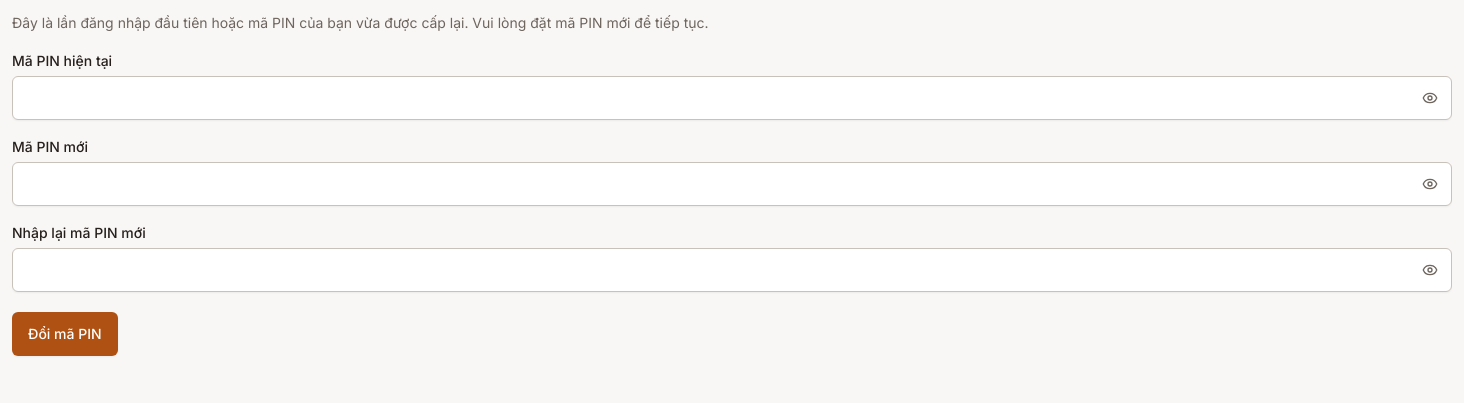
ChangePinForm › requires the new PIN to differ from the current one
Type "123456" into the password field labelled "Mã PIN hiện tại".
click(732, 98); type("123456")  # box [12,76,1452,120]
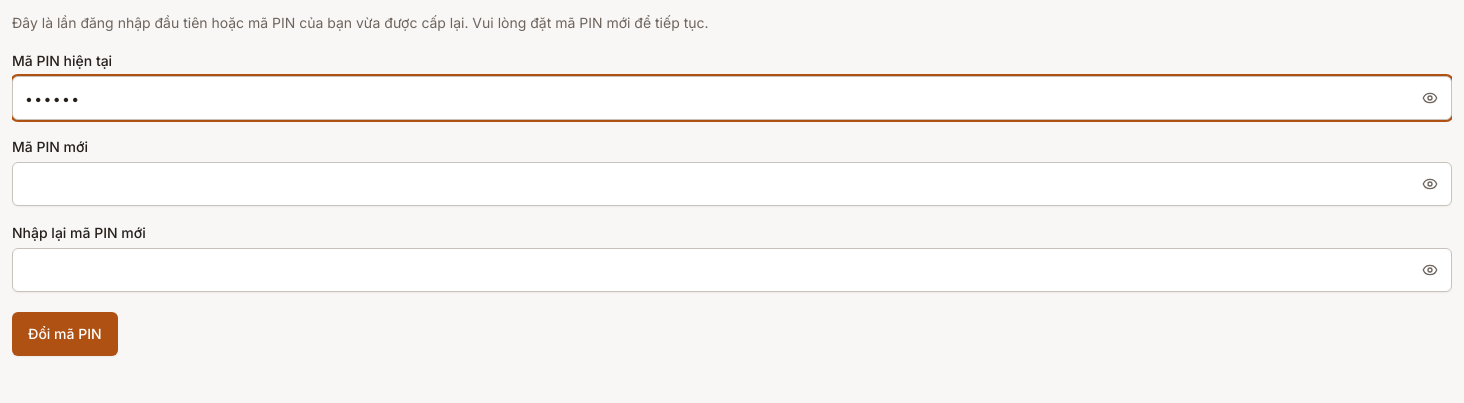
Type "123456" into the password field labelled "Mã PIN mới".
click(732, 184); type("123456")  # box [12,162,1452,206]
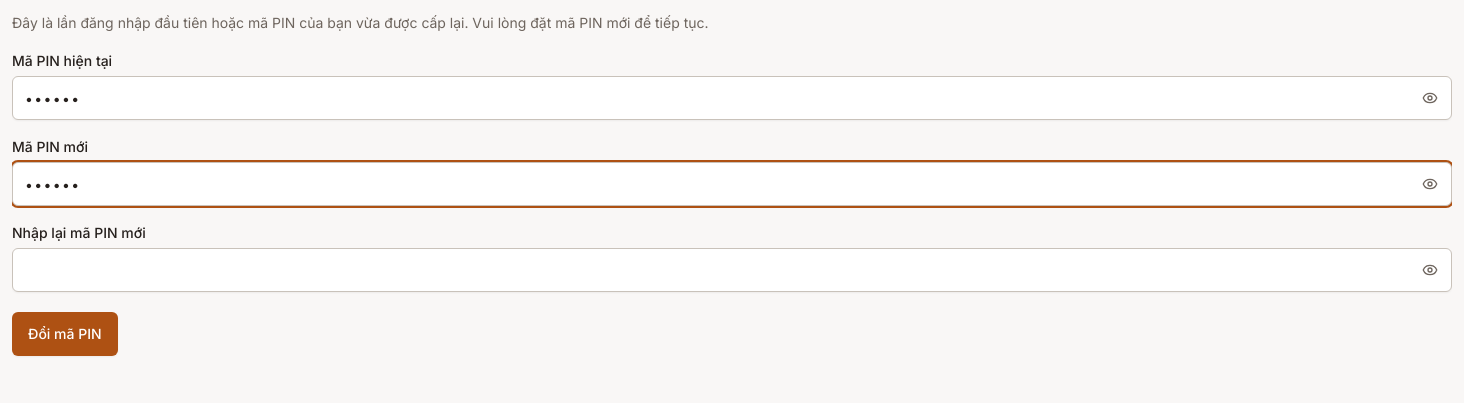
Type "123456" into the password field labelled "Nhập lại mã PIN mới".
click(732, 270); type("123456")  # box [12,248,1452,292]
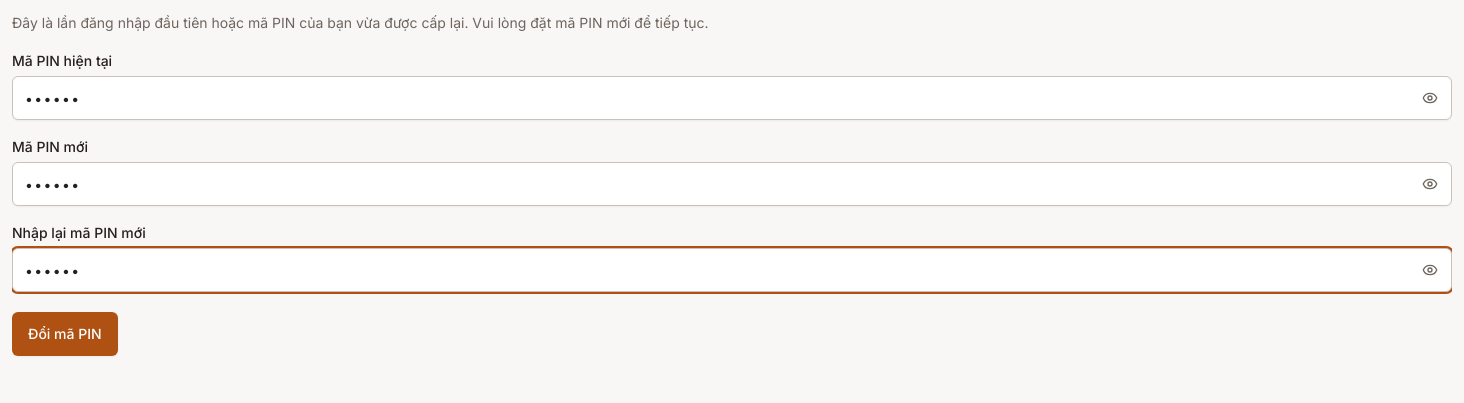
Click the button "Đổi mã PIN".
click(65, 334)  # box [12,312,118,356]
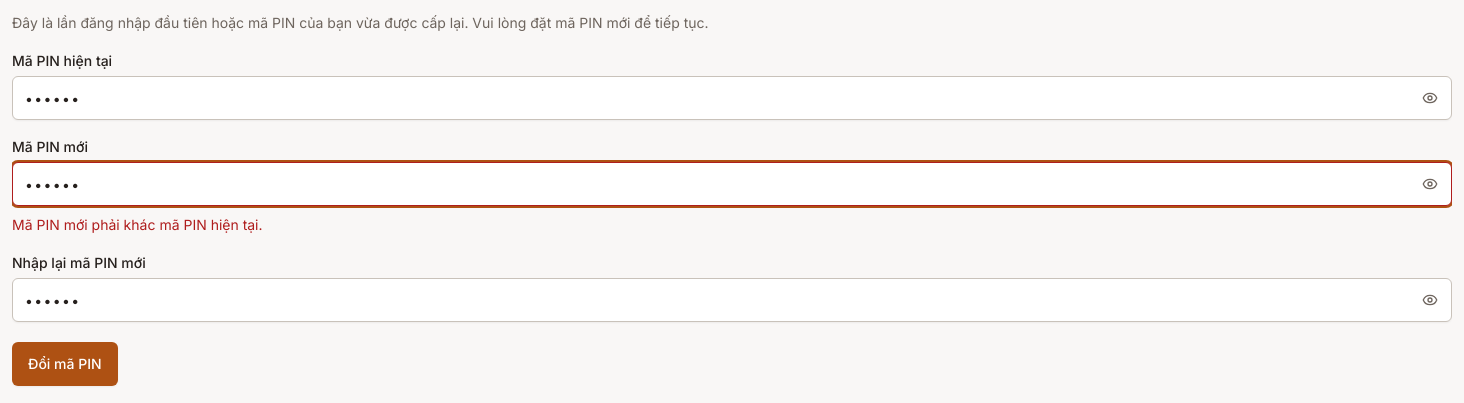
Check: the text "Mã PIN mới phải khác mã PIN hiện tại." is shown, box [12,216,262,233]
